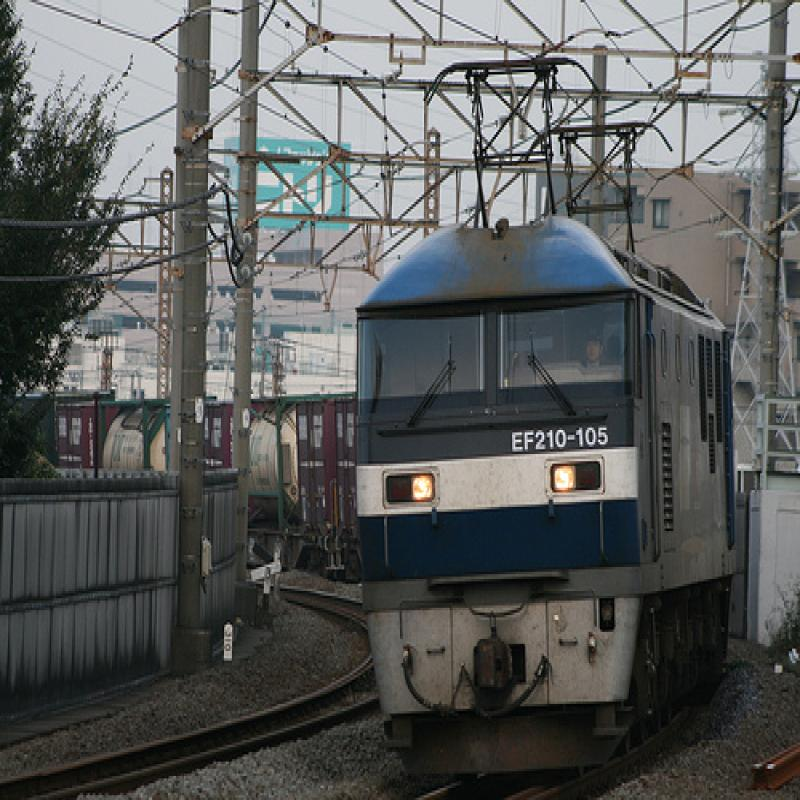train: (1, 213, 742, 775)
